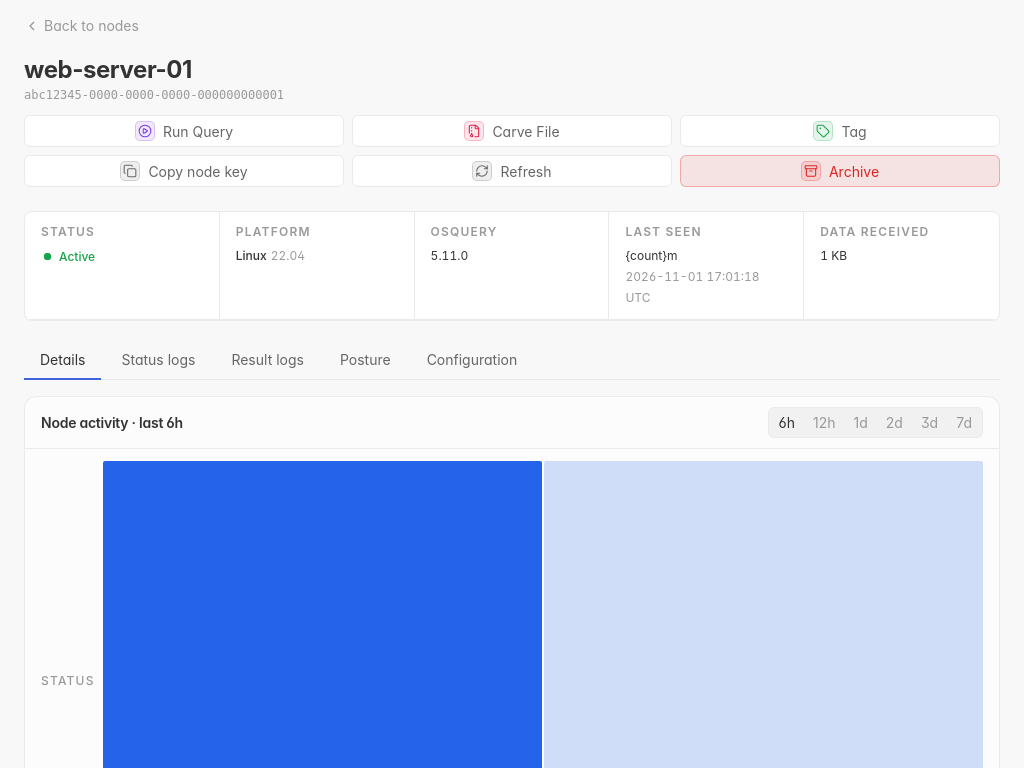
Test: NodeDetailPage › shows posture data for the selected node
Expected: the heading "web-server-01" is shown, [24, 55, 192, 84]
Click the tab "Posture".
click(365, 360)  # box [324, 341, 407, 380]
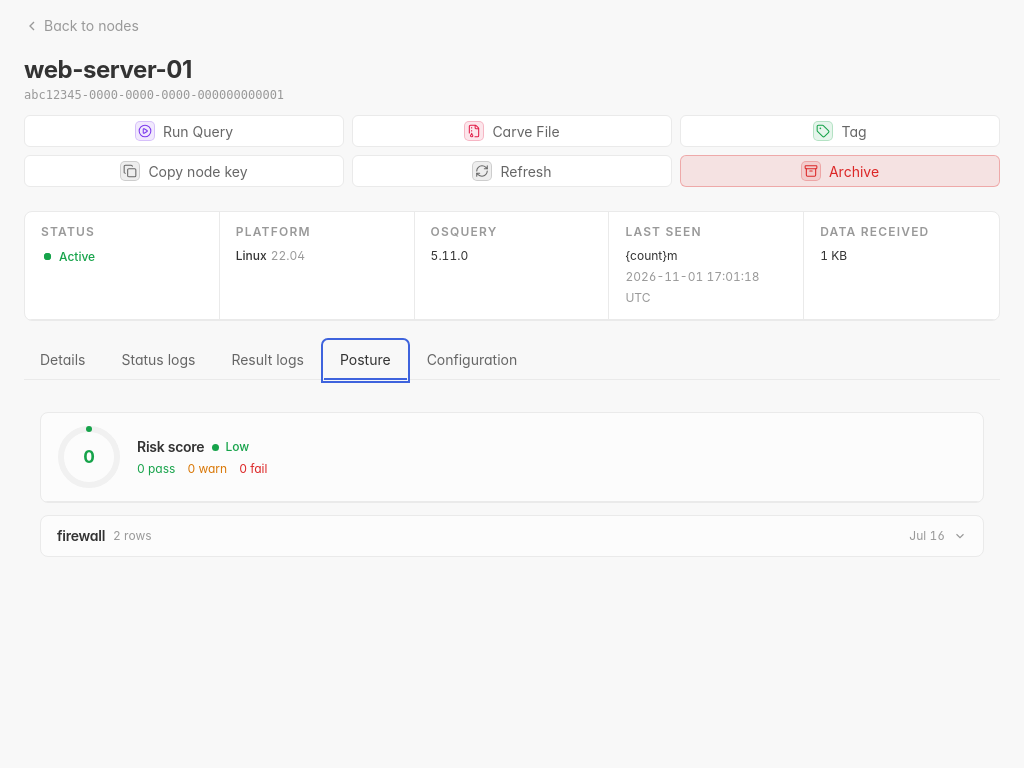
Expected: the button "firewall 2 rows Jul 16" is shown
Click the button "firewall 2 rows Jul 16".
click(81, 536)  # box [41, 516, 983, 556]
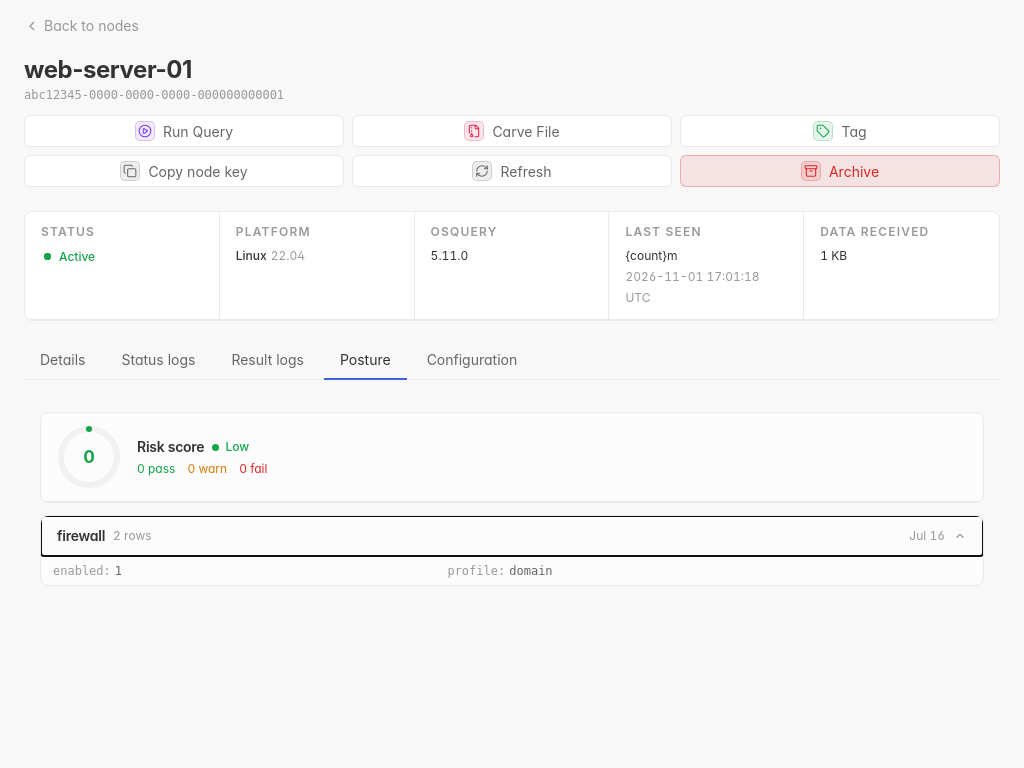
Expected: the text "enabled:" is shown, [53, 564, 111, 578]
Expected: the text "1" is shown, [115, 564, 122, 578]
Expected: the text "profile:" is shown, [447, 564, 505, 578]
